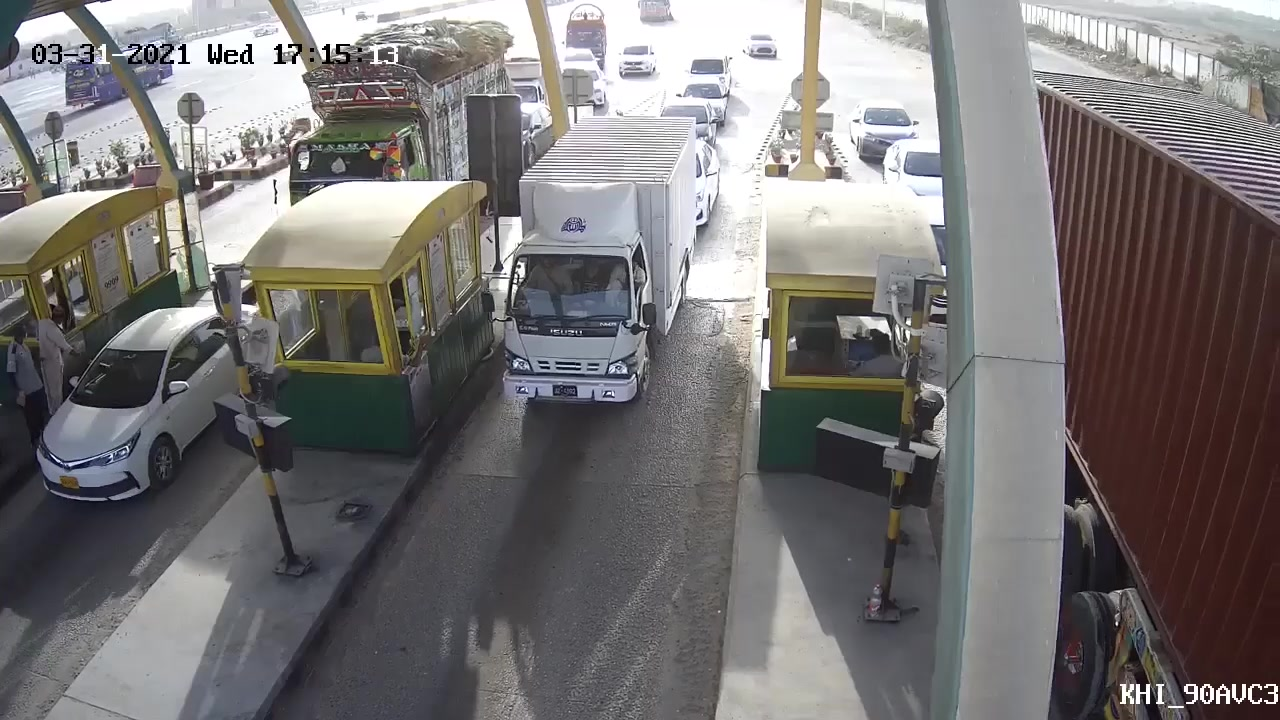F5: (477, 116, 690, 424)
